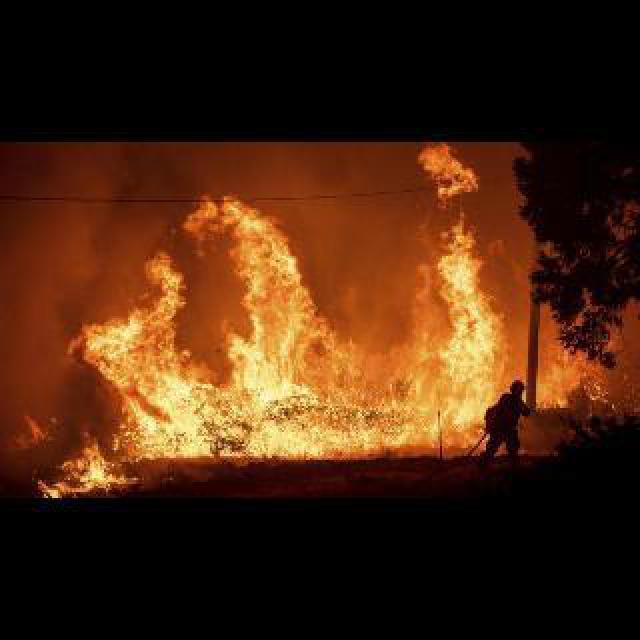Fire: (2, 140, 486, 496), (538, 326, 616, 410)
